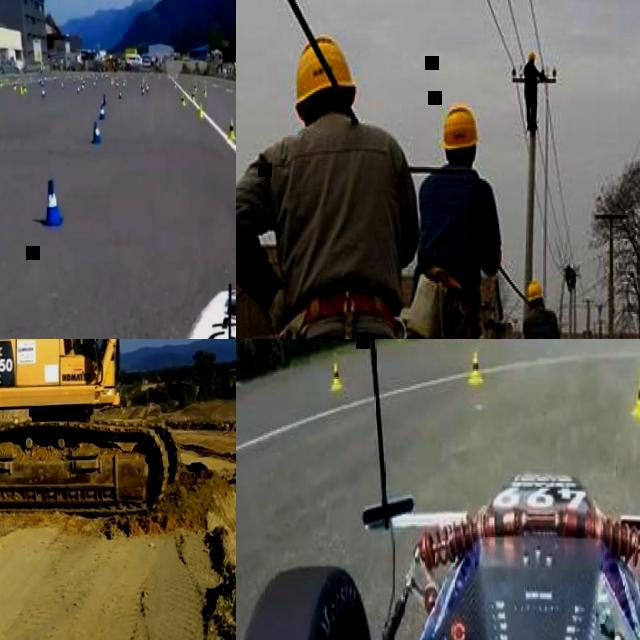helmet: (295, 36, 358, 117), (441, 103, 482, 149), (527, 280, 545, 302), (528, 50, 536, 60)
machinery: (0, 339, 236, 518)
no_vest: (276, 119, 402, 338), (422, 168, 483, 301), (526, 307, 560, 339), (526, 62, 536, 86)
person: (236, 35, 420, 339), (412, 101, 501, 339), (522, 279, 561, 339), (524, 49, 544, 131)
safety_cone: (42, 175, 64, 228), (469, 352, 483, 384), (632, 373, 640, 418), (91, 118, 102, 145), (332, 361, 342, 390), (226, 115, 236, 141), (197, 100, 205, 120), (98, 103, 106, 119), (182, 91, 186, 107), (22, 82, 27, 94), (192, 89, 196, 103), (203, 84, 207, 98), (41, 88, 45, 101), (142, 84, 146, 96), (118, 88, 122, 100), (20, 86, 24, 96), (76, 86, 80, 96), (146, 80, 149, 92)
vehicle: (236, 339, 640, 640)
